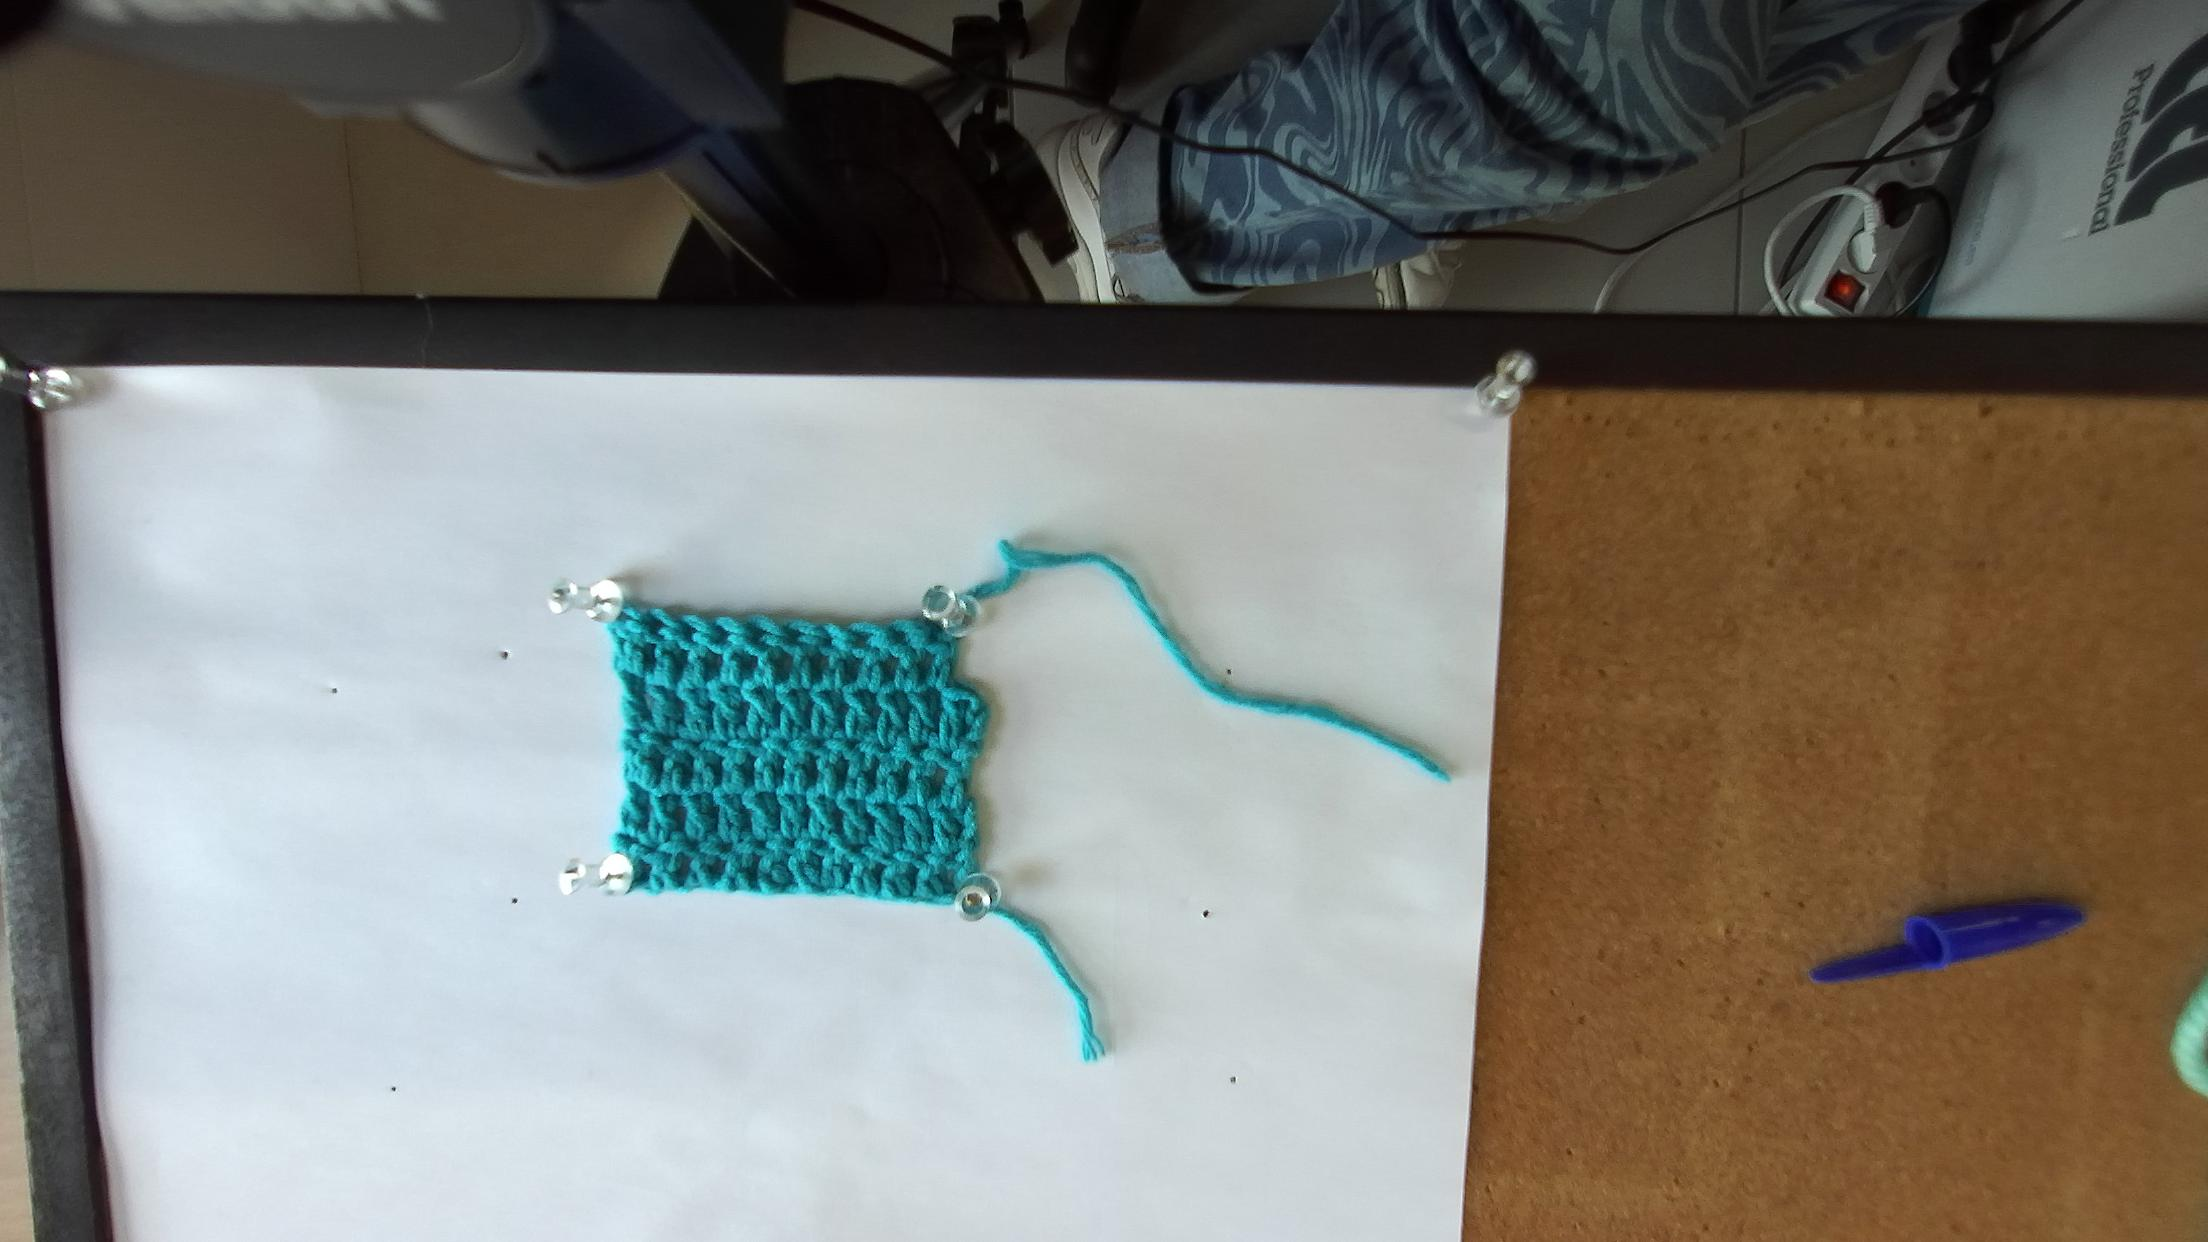hole: (648, 616, 666, 632), (890, 631, 908, 646), (784, 629, 805, 640), (682, 622, 698, 635), (748, 626, 770, 635), (616, 611, 632, 622), (714, 626, 731, 637), (852, 635, 870, 645), (823, 634, 833, 646)
swatch: (605, 605, 990, 911)
